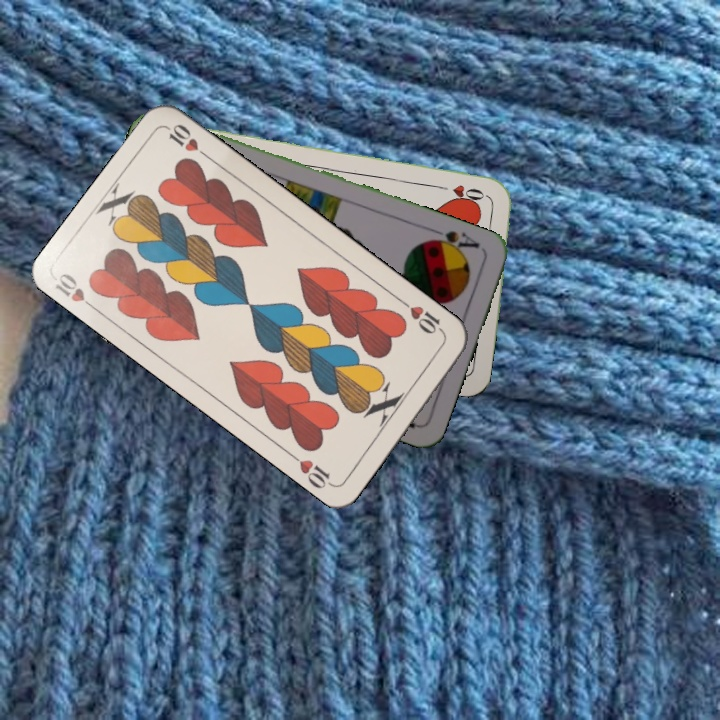H10: (51, 269, 102, 315), (397, 296, 448, 338)
HO: (432, 180, 491, 203)
SA: (424, 225, 483, 258)
